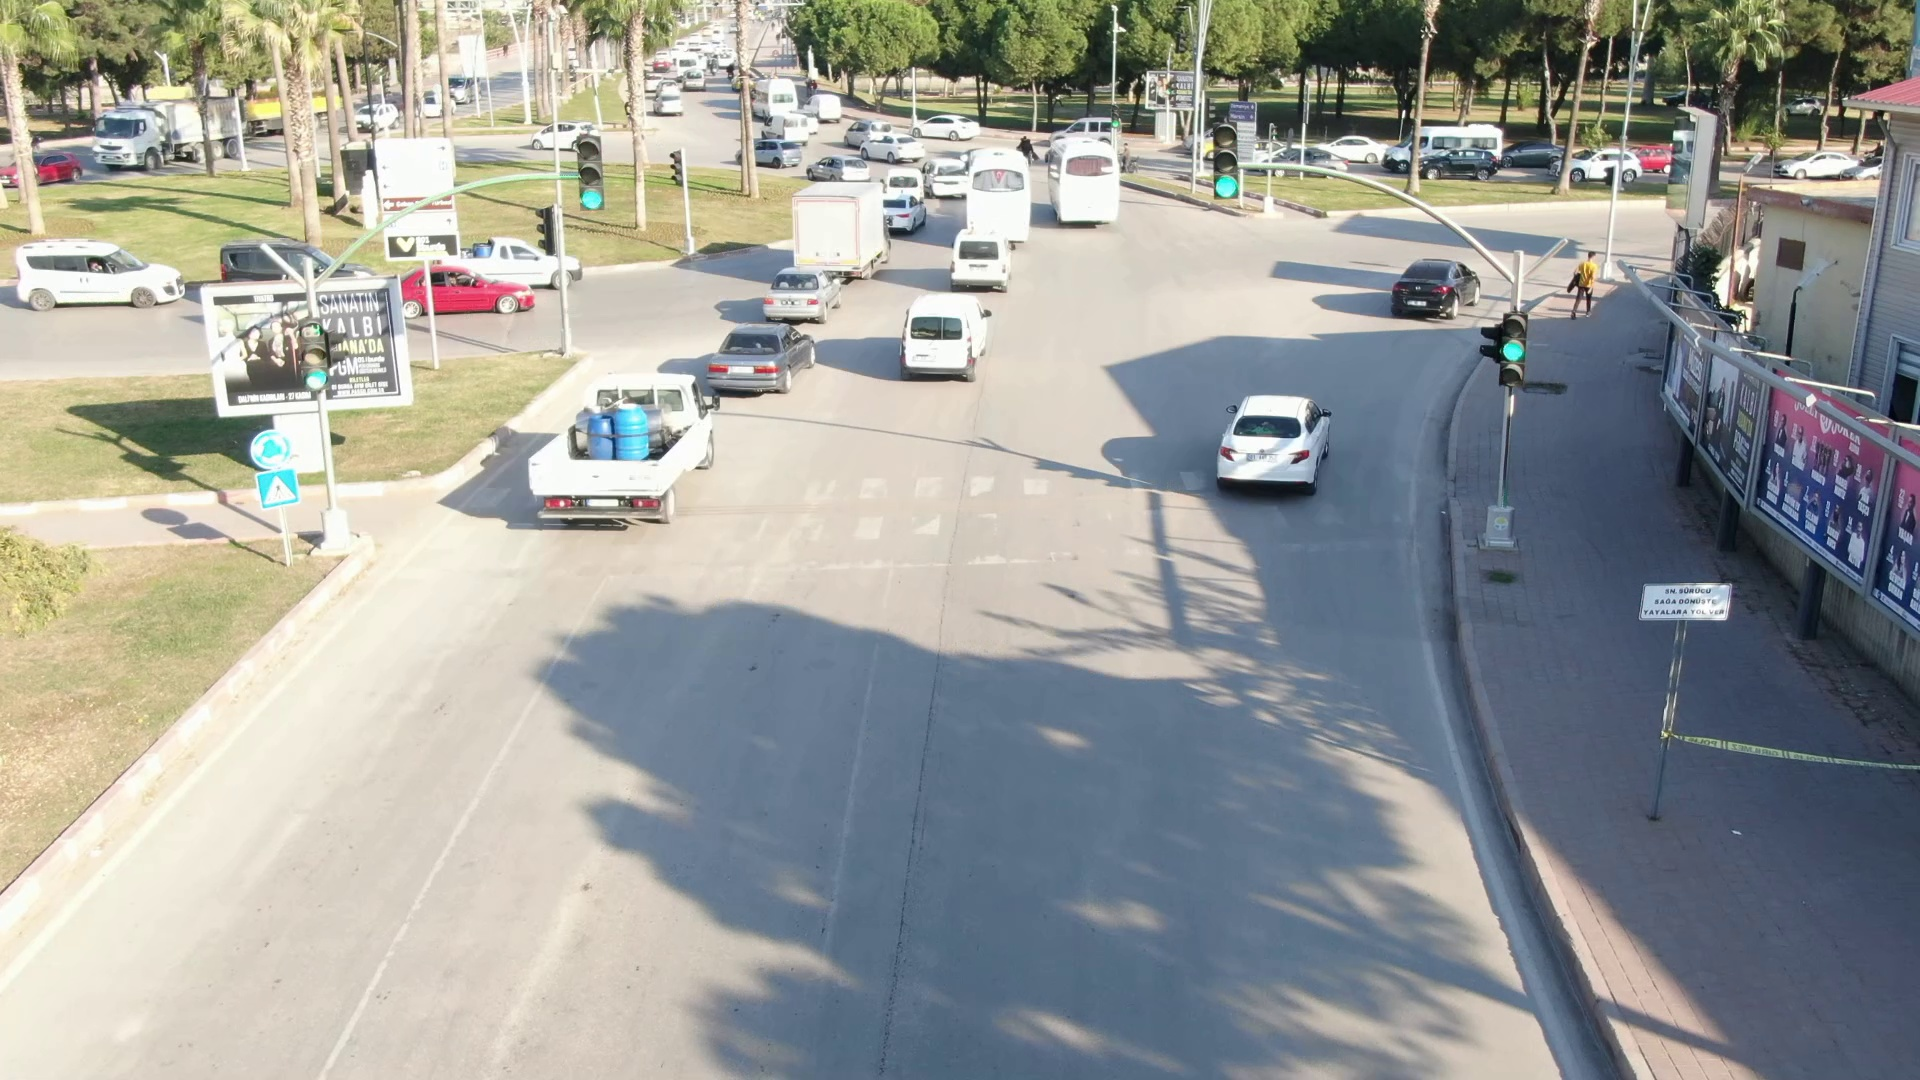car: (499, 356, 703, 539), (1193, 383, 1345, 519), (4, 223, 197, 326), (879, 293, 1014, 397), (690, 313, 823, 410), (1377, 240, 1499, 336), (1036, 123, 1143, 232), (743, 256, 836, 326), (936, 223, 1023, 286)
person: (1554, 245, 1608, 323)
